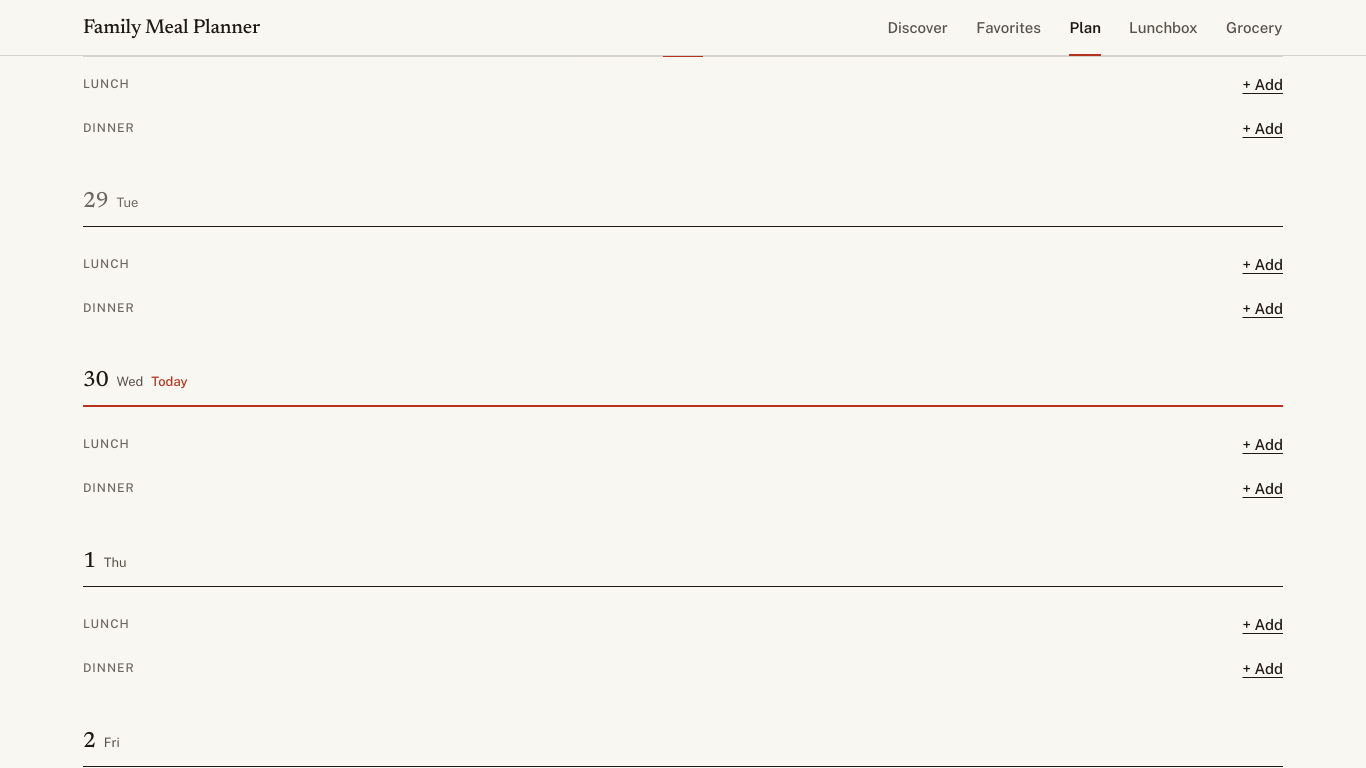
Scenario: fills a lunch slot from the planner, then takes it back off
(page scrolled)
Click the button with aria-label "Add lunch on" at [1263, 445], box [1232,423,1293,466]
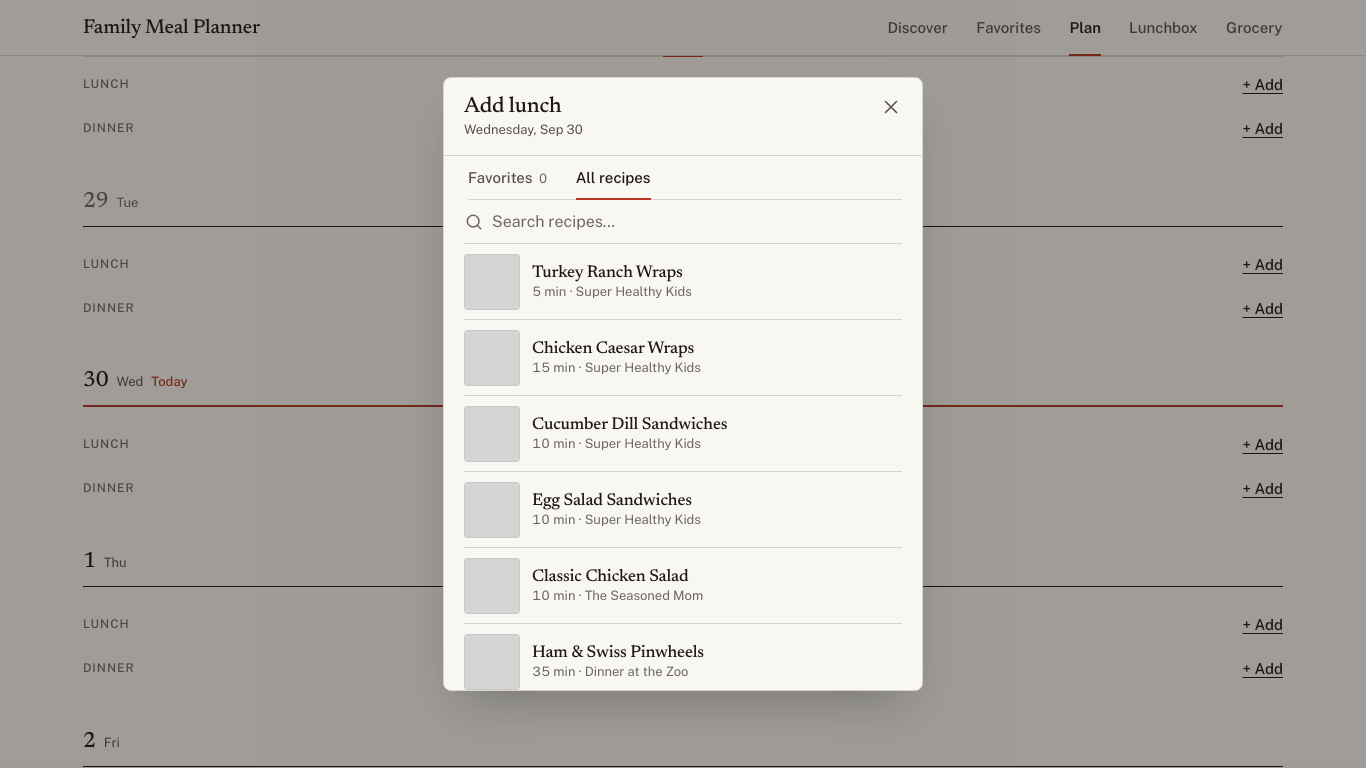
With no favorites saved, the sheet opens on all recipes.
Type "ranch wraps" into the search field labelled "Search recipes" at [683, 222], box [464,200,902,244]
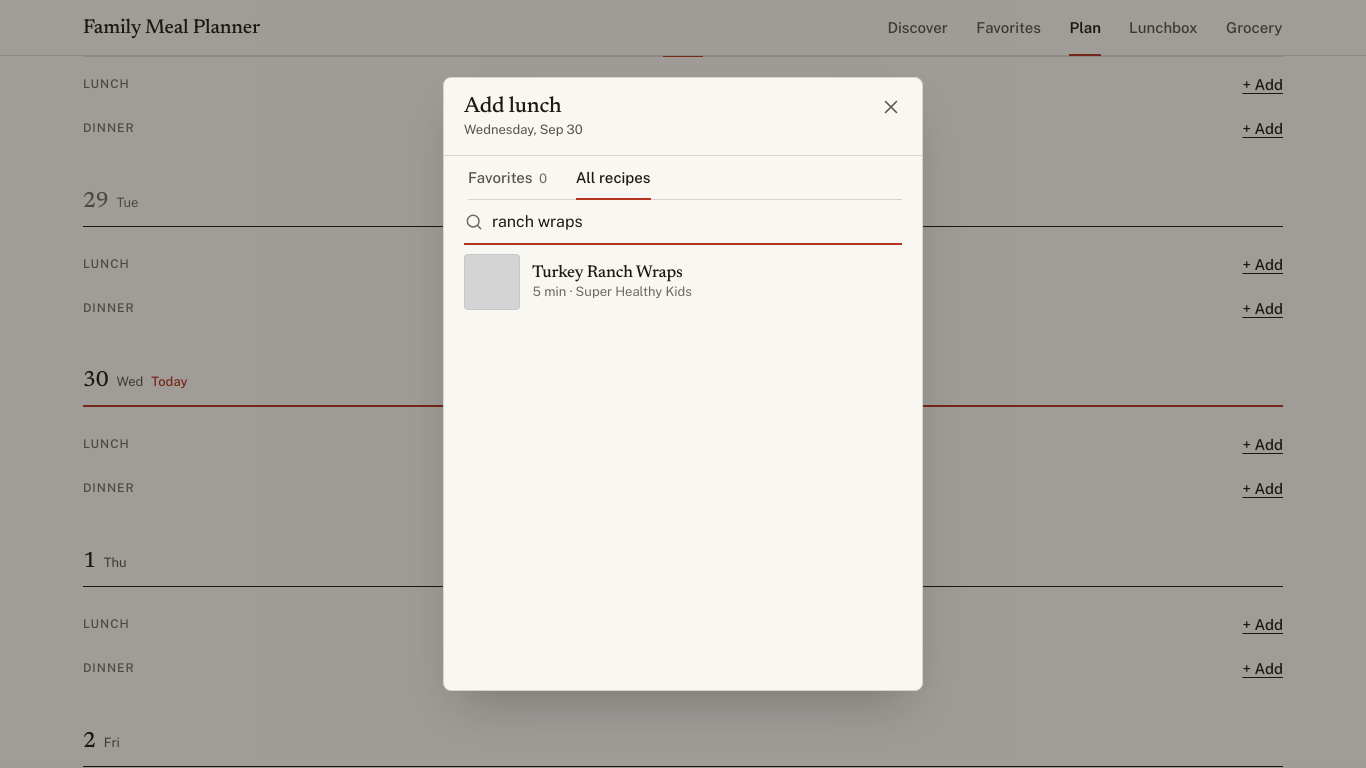
Click the button "Turkey Ranch Wraps 5 min · Super Healthy Kids" at [683, 282], box [464,244,902,320]
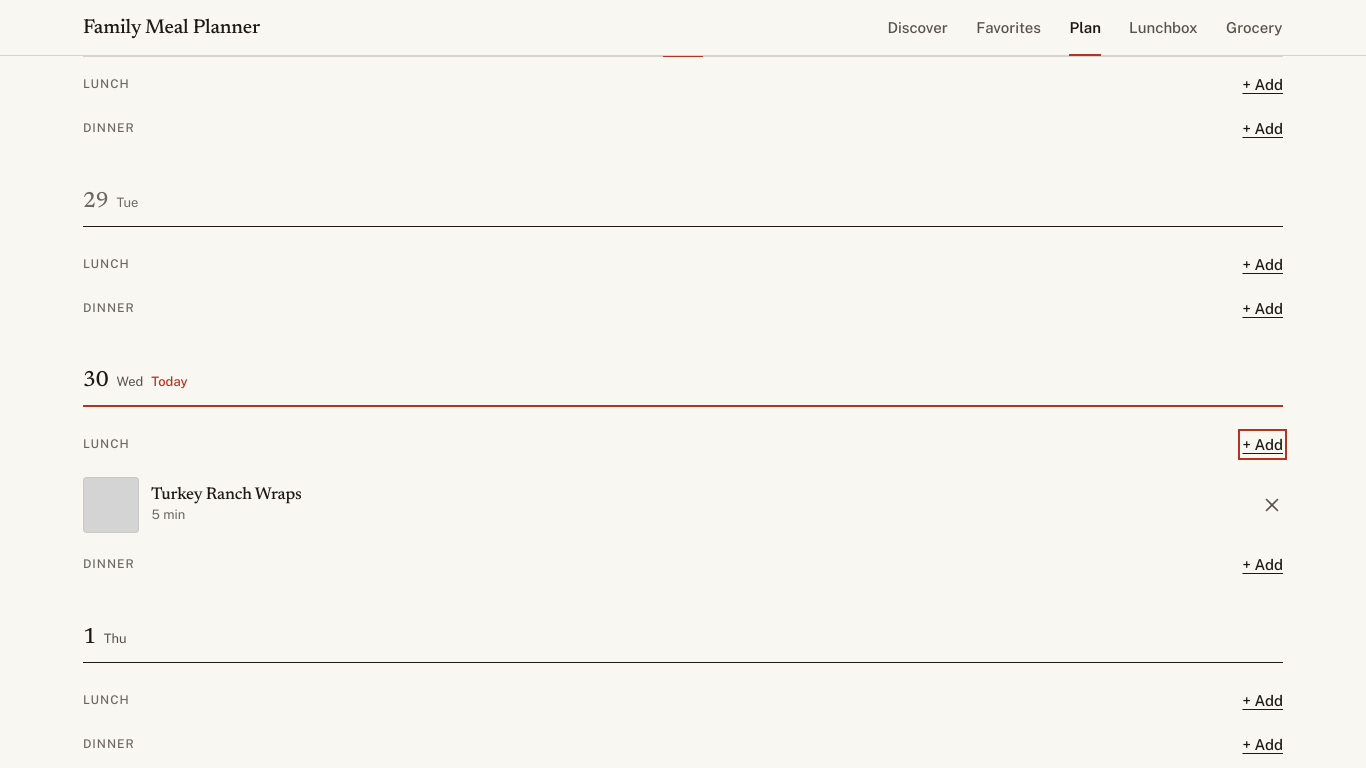
Now the dialog is gone
Click the button named "Remove Turkey Ranch Wraps from Wednesday lunch" at [1272, 504], box [1250,482,1294,526]
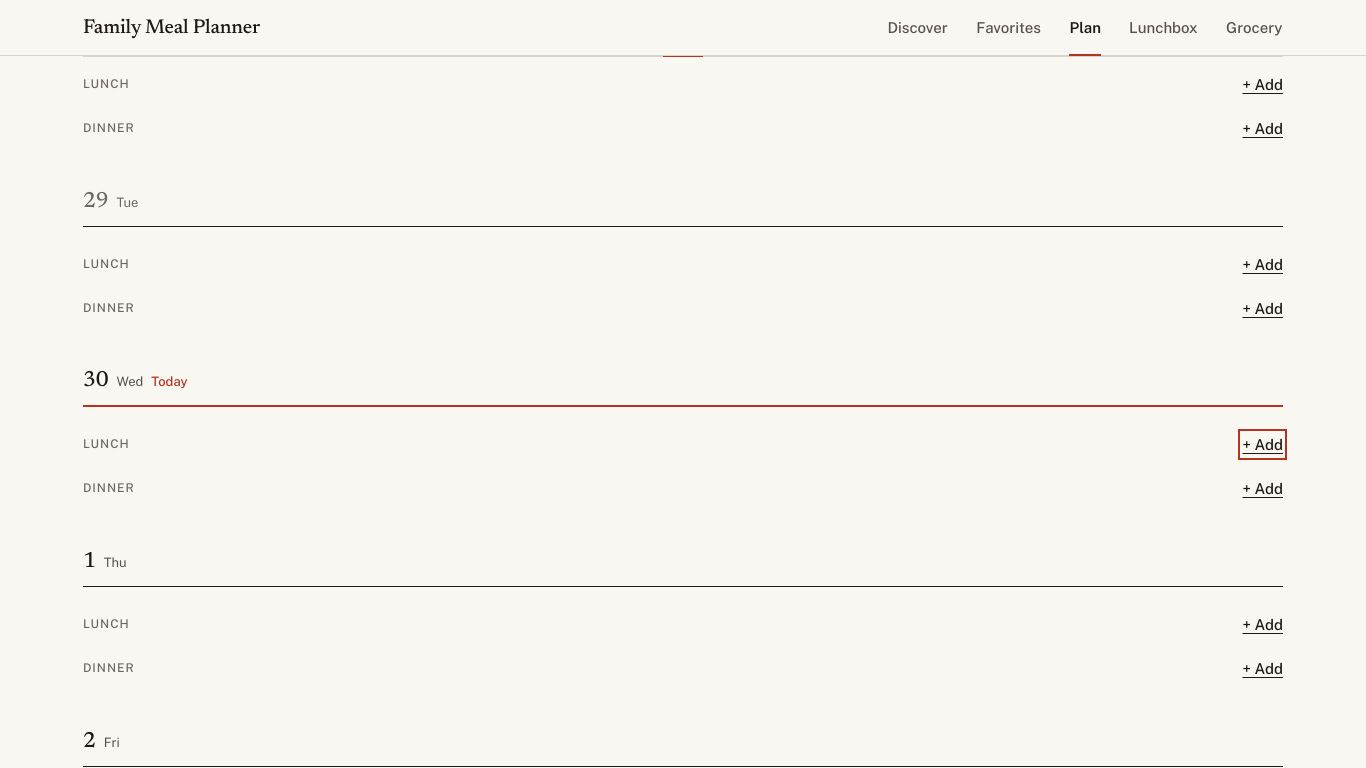
Now the link "Turkey Ranch Wraps" is gone
